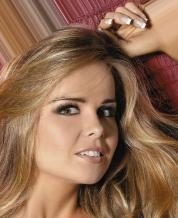face: (58, 98, 117, 165)
